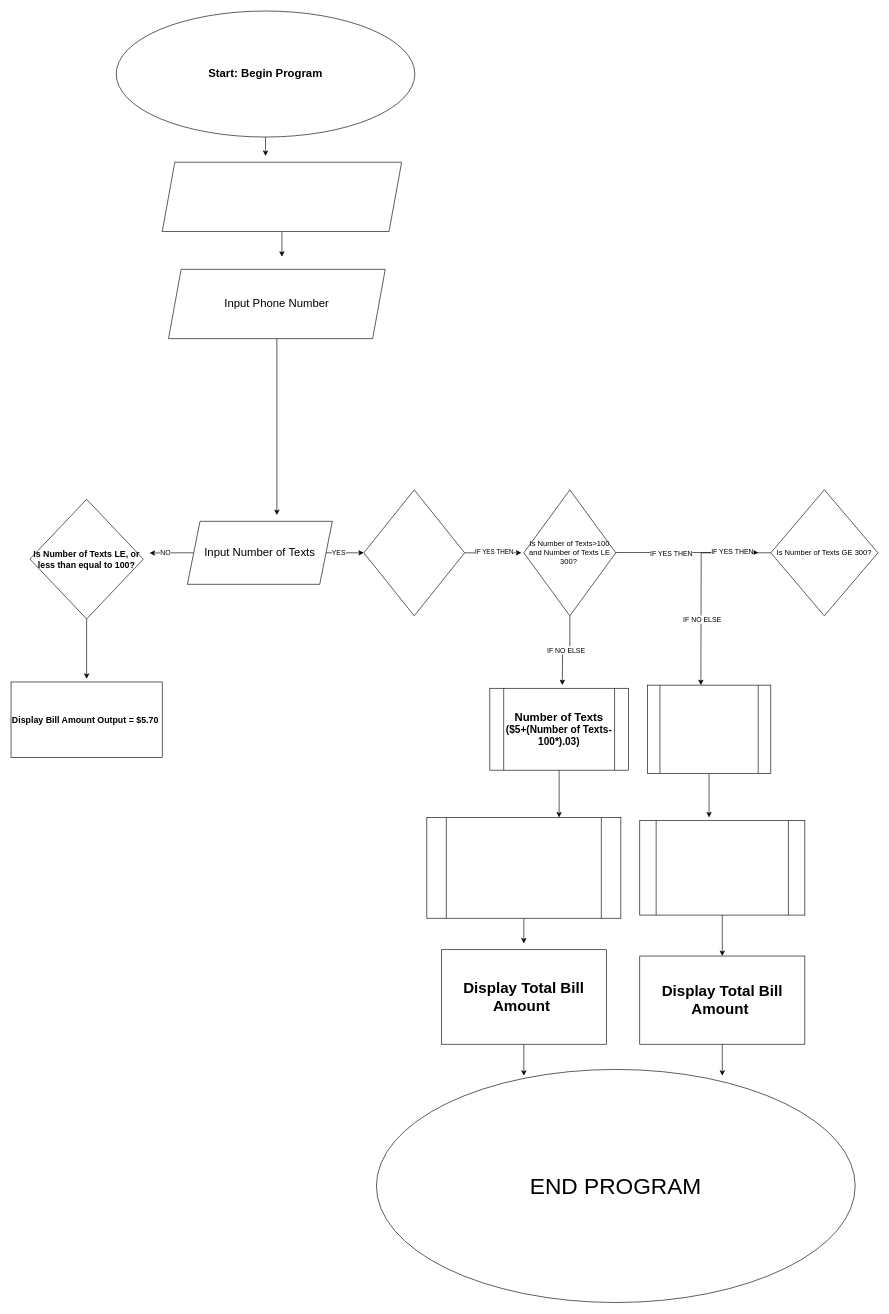
Some shapes in this 889 by 1314 pixel diagram are drawn without their labels. The shapes that lost their labels are listed below. From the top down, each one's centre as x and y in pixels, then its label:
At point (282, 197): "Input Area Code".
At point (414, 552): "Is Number of Texts>100?".
At point (709, 728): "Number of Texts ($11+(Number of Texts-300)*.02)".
At point (523, 867): "Bill Amount=Subtota l *1.14 Display Total Bill Amount".
At point (722, 867): "Bill Amount=Subtotal*1.14 Display Total Bill Amount".
